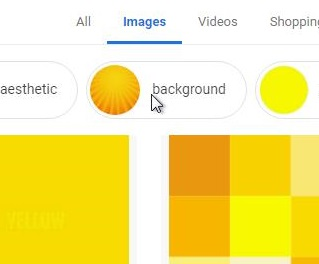cursor: (149, 93, 164, 114)
